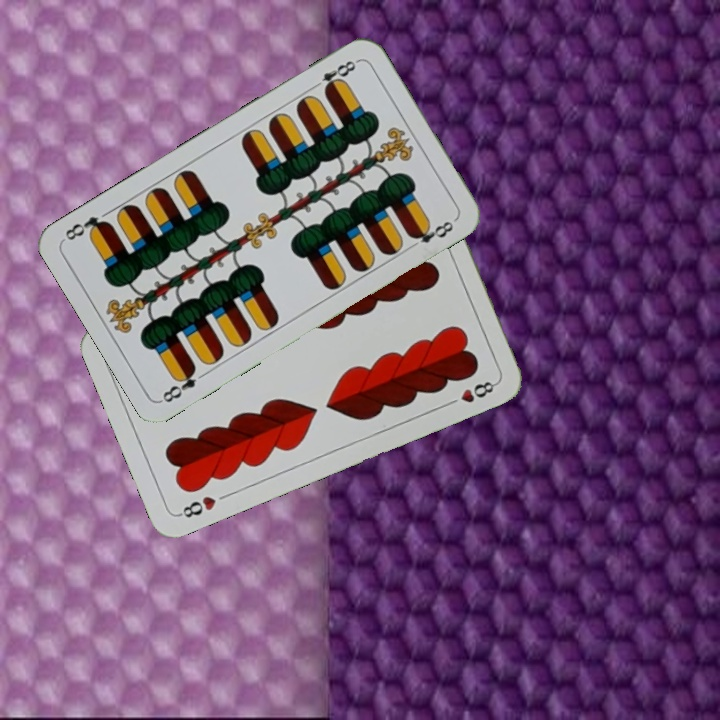E8: (158, 362, 211, 405), (307, 56, 361, 96)
H8: (174, 492, 219, 521)
